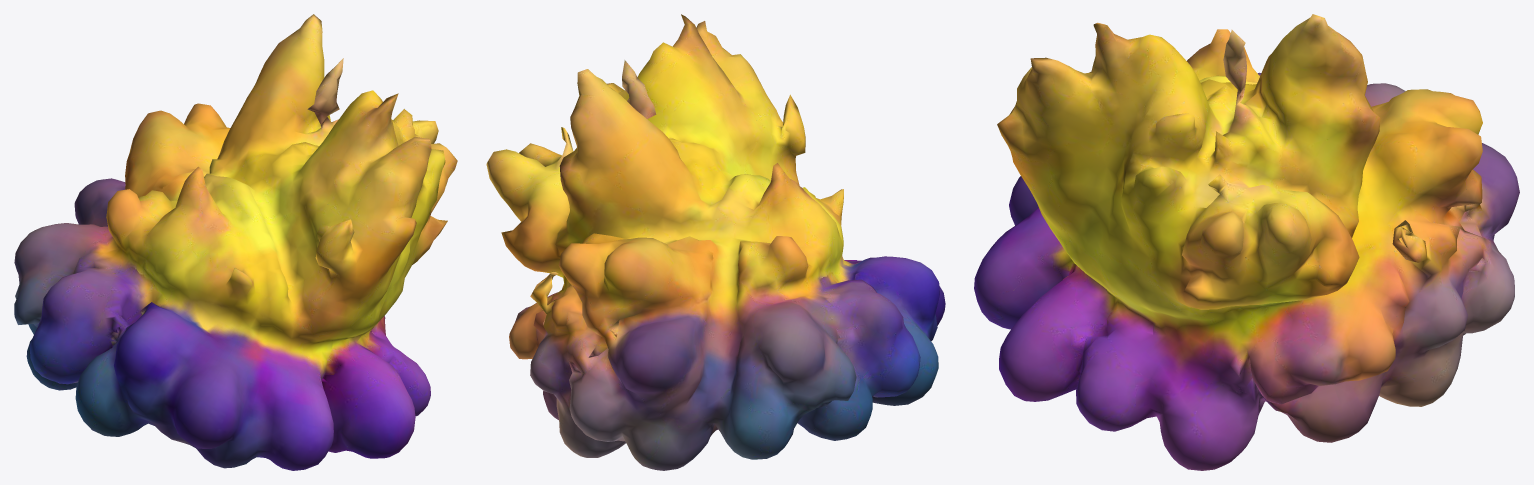
File: create_an_explosion_0418085729_preview (1).glb
3 views of the same model, side by side, from view 1: azimuth 30°, elevation 25°; view 2: azimuth 150°, elevation 25°; view 3: azimuth 270°, elevation 25° (orthographic). The views are drawn at different scales.
Visible parts, largest first — view 1: Mesh1; view 2: Mesh1; view 3: Mesh1.
Part boxes in pixels (x1,y1,x2,y2): Mesh1: (14,14,457,470); Mesh1: (486,14,945,470); Mesh1: (974,14,1519,470).
Bounding box in the file's own units: 1.2 × 1.02 × 1.13.
1 material, 1 textured.
